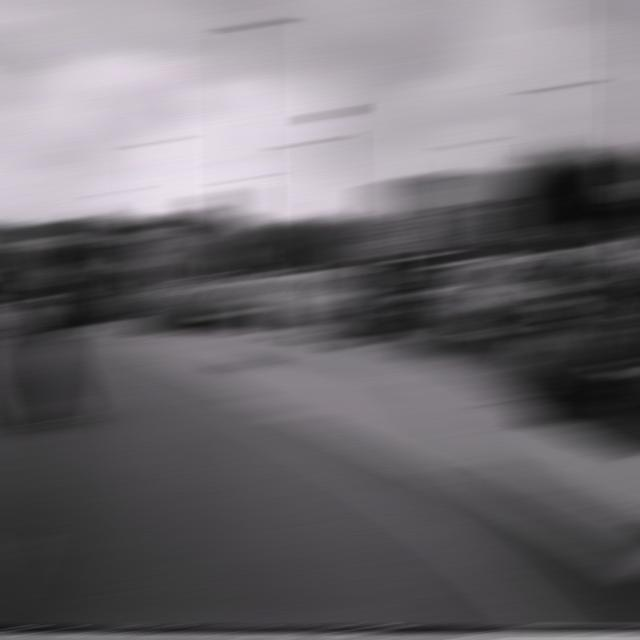stop_sign: (363, 233, 396, 256), (113, 244, 146, 267)
